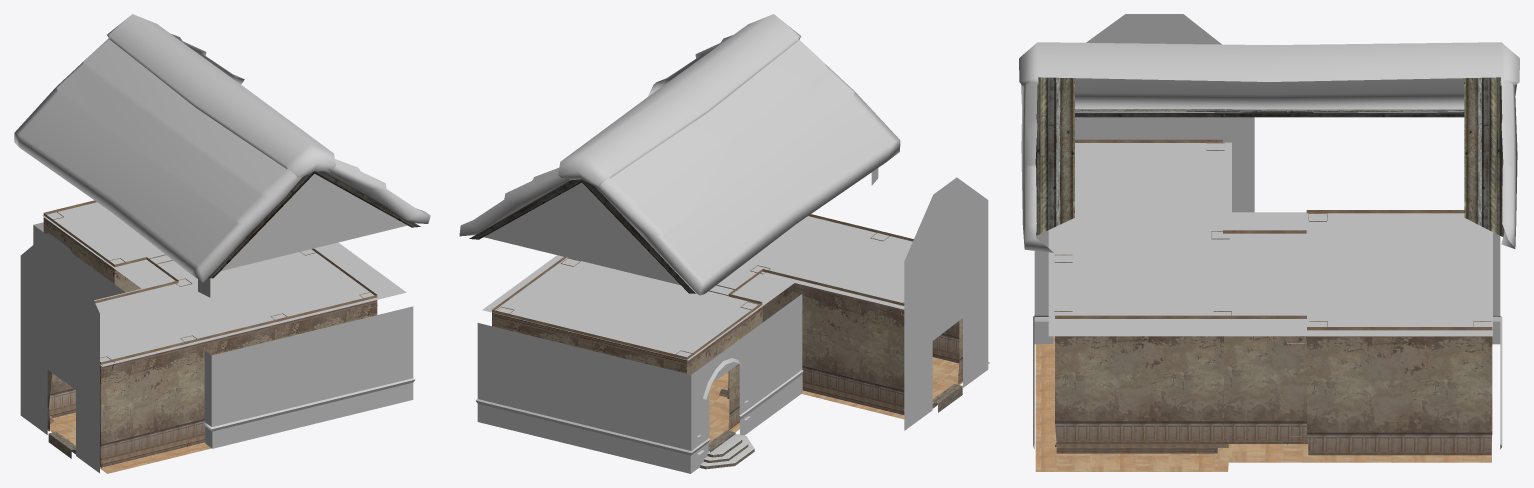
File: fangzi_04_no_01.FBX
The picture shows the model from 3 angles, left to right: view 1: azimuth 30°, elevation 25°; view 2: azimuth 150°, elevation 25°; view 3: azimuth 270°, elevation 25°; orthographic projection. The views are drawn at different scales.
Parts seen in each view (by area): view 1: xue, shinei_qiang, shinei_ding, neiqiang, shinei_mutou, fangyan, shinei_diban; view 2: xue, shinei_qiang, shinei_ding, neiqiang, shinei_mutou, shinei_diban, fangyan, taijie; view 3: shinei_ding, neiqiang, xue, shinei_mutou, fangyan, shinei_qiang, shinei_diban.
Boxes of the visible parts, box(x1,y1,x2,y2) form: xue: box(14, 14, 430, 428); shinei_qiang: box(20, 173, 414, 473); shinei_ding: box(42, 202, 406, 366); neiqiang: box(43, 220, 377, 444); shinei_mutou: box(43, 200, 377, 467); fangyan: box(208, 171, 420, 278); shinei_diban: box(48, 412, 211, 473); xue: box(459, 14, 900, 466); shinei_qiang: box(475, 168, 988, 473); shinei_ding: box(482, 216, 912, 360); neiqiang: box(492, 284, 962, 412); shinei_mutou: box(492, 214, 962, 430); shinei_diban: box(708, 357, 989, 442); fangyan: box(469, 179, 695, 293); taijie: box(699, 384, 962, 469); shinei_ding: box(1048, 142, 1492, 336); neiqiang: box(1055, 336, 1492, 432); xue: box(1019, 42, 1519, 445); shinei_mutou: box(1054, 139, 1492, 455); fangyan: box(1035, 77, 1504, 236); shinei_qiang: box(1033, 14, 1502, 449); shinei_diban: box(1035, 336, 1491, 471).
Bounding box in the file's own units: 26.27 × 22.19 × 26.95.
